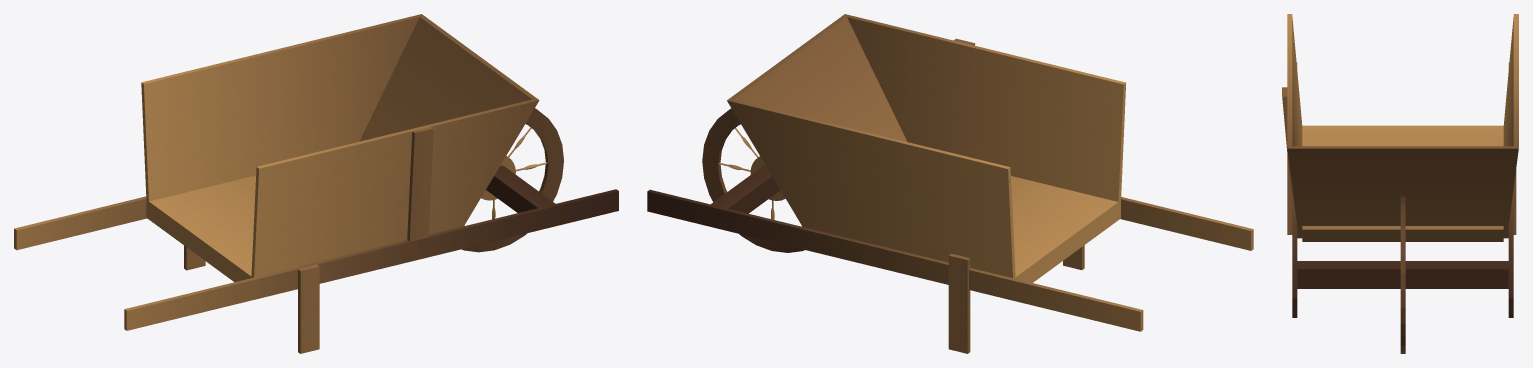
File: obj-kruiwagen.FBX
3 views of the same model, side by side, from view 1: azimuth 30°, elevation 25°; view 2: azimuth 150°, elevation 25°; view 3: azimuth 270°, elevation 25° (orthographic). The views are drawn at different scales.
Visible parts, largest first — view 1: kruiwagen; view 2: kruiwagen; view 3: kruiwagen.
Part boxes in pixels (x1,y1,x2,y2): kruiwagen: (14, 14, 618, 353); kruiwagen: (647, 14, 1253, 353); kruiwagen: (1282, 14, 1518, 353).
Bounding box in the file's own units: 9.66 × 3.66 × 4.09.
1 material, 1 textured.
